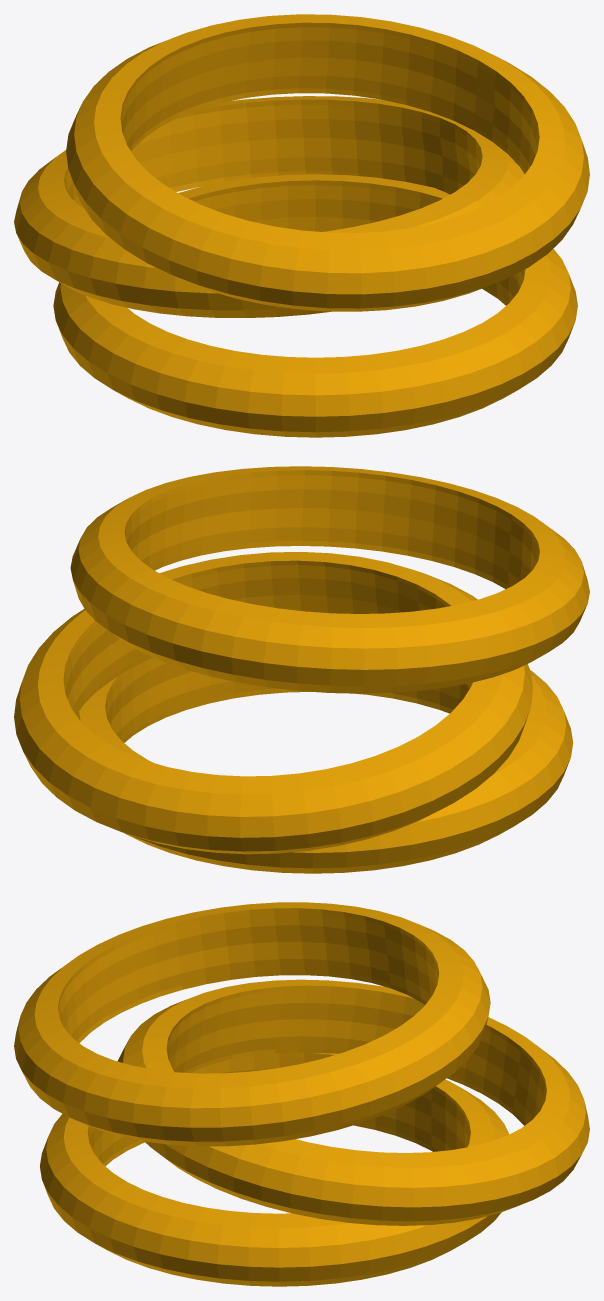
The model's file is wedding_bangle.fbx.
The picture shows the model from 3 angles, top to bottom: view 1: azimuth 30°, elevation 25°; view 2: azimuth 150°, elevation 25°; view 3: azimuth 270°, elevation 25°; orthographic projection. The views are drawn at different scales.
Parts seen in each view (by area): view 1: Torus; view 2: Torus; view 3: Torus.
Boxes of the visible parts, x1,y1,x2,y2 form: Torus: (14, 14, 589, 437); Torus: (14, 466, 589, 873); Torus: (14, 902, 589, 1286).
Size of the model in its own units: 425 by 220 by 509.
